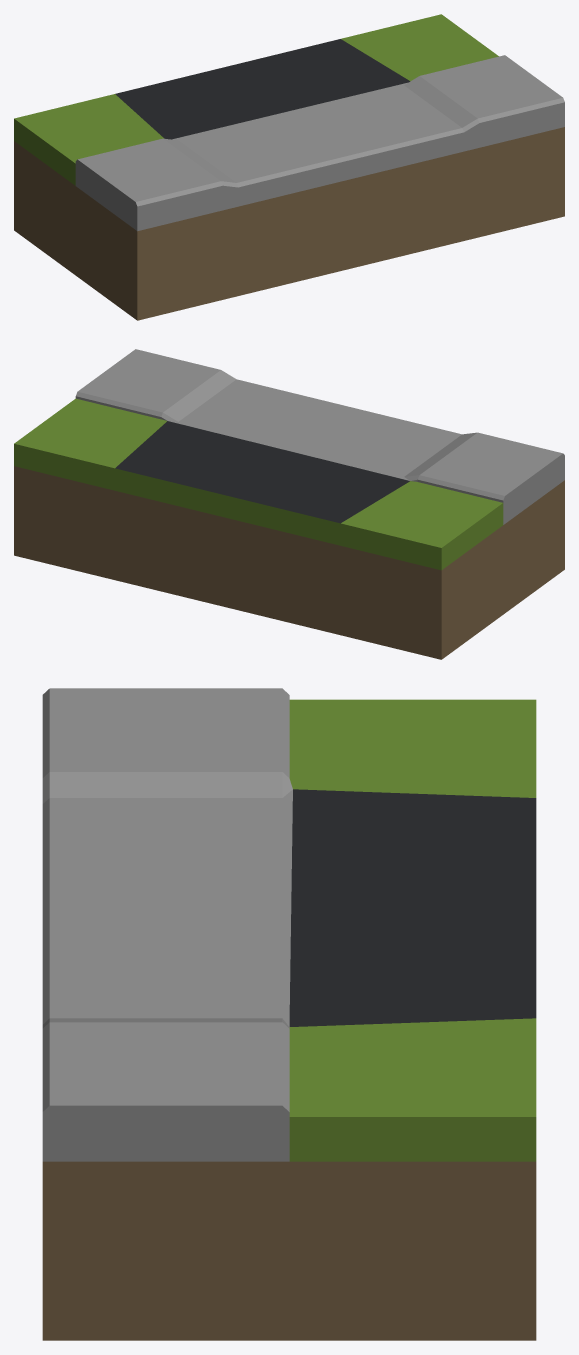
Rendered from Tile_SideWalkDriveWay_01.fbx.
The picture shows the model from 3 angles, top to bottom: view 1: azimuth 30°, elevation 25°; view 2: azimuth 150°, elevation 25°; view 3: azimuth 270°, elevation 25°; orthographic projection. The views are drawn at different scales.
Parts seen in each view (by area): view 1: Cube.003; view 2: Cube.003; view 3: Cube.003.
Part boxes in pixels (x1,y1,x2,y2): Cube.003: [14, 14, 564, 320]; Cube.003: [14, 349, 564, 659]; Cube.003: [42, 688, 536, 1340].
Size of the model in its own units: 400 by 105 by 200.
